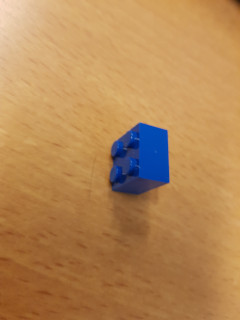2x2 blue: (109, 121, 171, 196)
